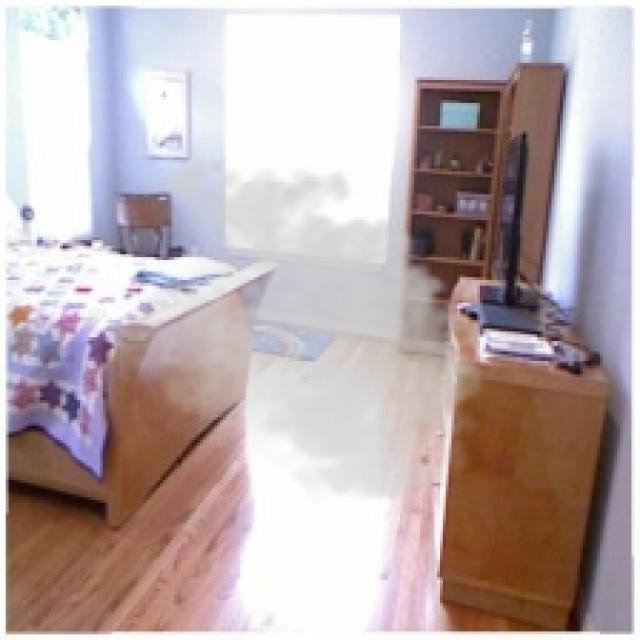smoke: (114, 146, 497, 508)
